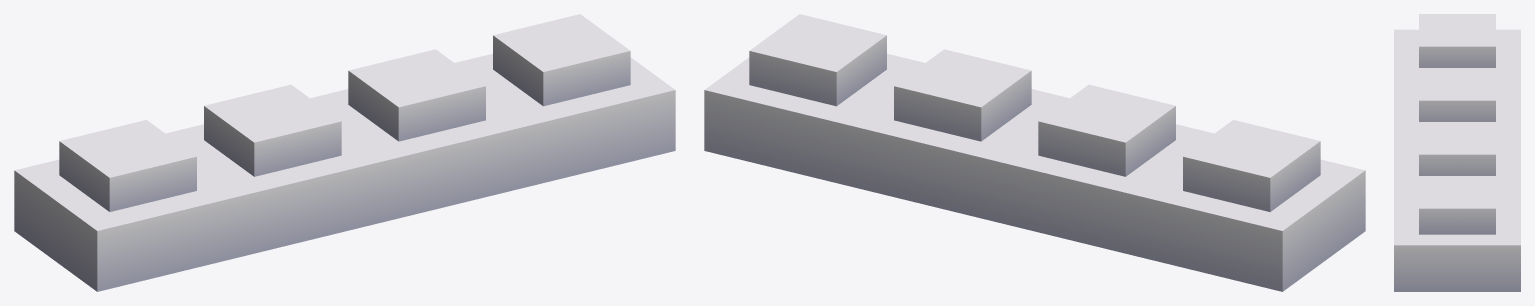
Rendered from kenney-brick-square-lq-plate-1-x-4.glb.
3 views of the same model, side by side, from view 1: azimuth 30°, elevation 25°; view 2: azimuth 150°, elevation 25°; view 3: azimuth 270°, elevation 25° (orthographic). The views are drawn at different scales.
Visible parts, largest first — view 1: square-lq-plate-1x4; view 2: square-lq-plate-1x4; view 3: square-lq-plate-1x4.
Boxes of the visible parts, x1,y1,x2,y2 form: square-lq-plate-1x4: [14, 14, 675, 291]; square-lq-plate-1x4: [704, 14, 1365, 291]; square-lq-plate-1x4: [1394, 14, 1520, 291].
Size of the model in its own units: 0.318 by 0.05 by 0.079.
Materials: 1 (1 with a texture image).
